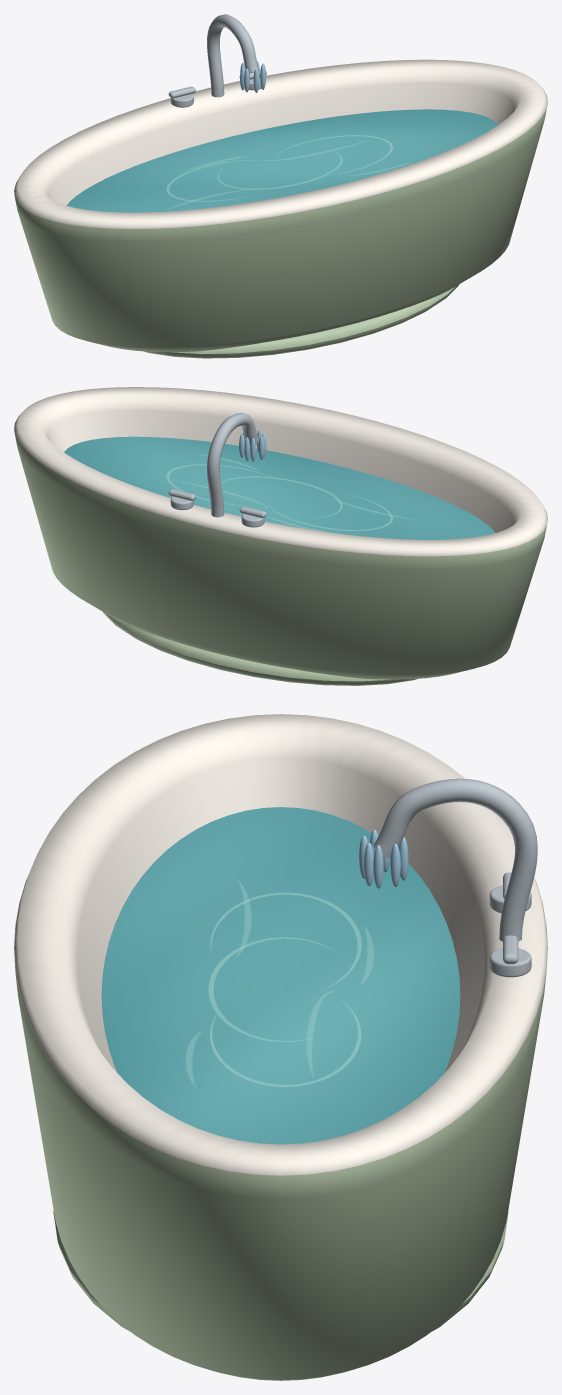
File: bathroomBathOvalSage.glb
3 renders of one model, top to bottom at view 1: azimuth 30°, elevation 25°; view 2: azimuth 150°, elevation 25°; view 3: azimuth 270°, elevation 25°, orthographic. The views are drawn at different scales.
Visible parts, largest first — view 1: Oval bath shell, Recessed bath water, Recessed bath plinth, Bath gooseneck faucet; view 2: Oval bath shell, Recessed bath water, Recessed bath plinth, Bath gooseneck faucet; view 3: Oval bath shell, Recessed bath water, Bath gooseneck faucet, Recessed bath plinth, Bath tap base.001.
Part boxes in pixels (left/top/right/bottom): Oval bath shell: left=14, top=59, right=547, bottom=352; Recessed bath water: left=66, top=109, right=497, bottom=212; Recessed bath plinth: left=143, top=284, right=458, bottom=358; Bath gooseneck faucet: left=207, top=14, right=258, bottom=97; Oval bath shell: left=14, top=387, right=547, bottom=679; Recessed bath water: left=64, top=436, right=495, bottom=539; Recessed bath plinth: left=103, top=612, right=418, bottom=685; Bath gooseneck faucet: left=207, top=413, right=258, bottom=517; Oval bath shell: left=14, top=714, right=547, bottom=1380; Recessed bath water: left=101, top=807, right=460, bottom=1144; Bath gooseneck faucet: left=374, top=778, right=537, bottom=941; Recessed bath plinth: left=53, top=1211, right=508, bottom=1331; Bath tap base.001: left=489, top=948, right=531, bottom=977.
Size of the model in its own units: 2.46 by 1.12 by 1.22.
